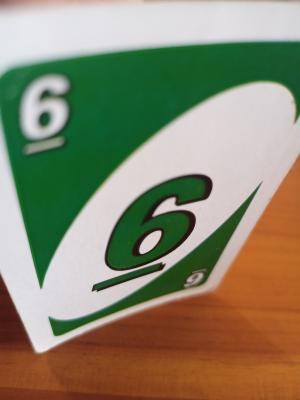green: (20, 53, 230, 294)
num_6: (11, 68, 83, 161)
